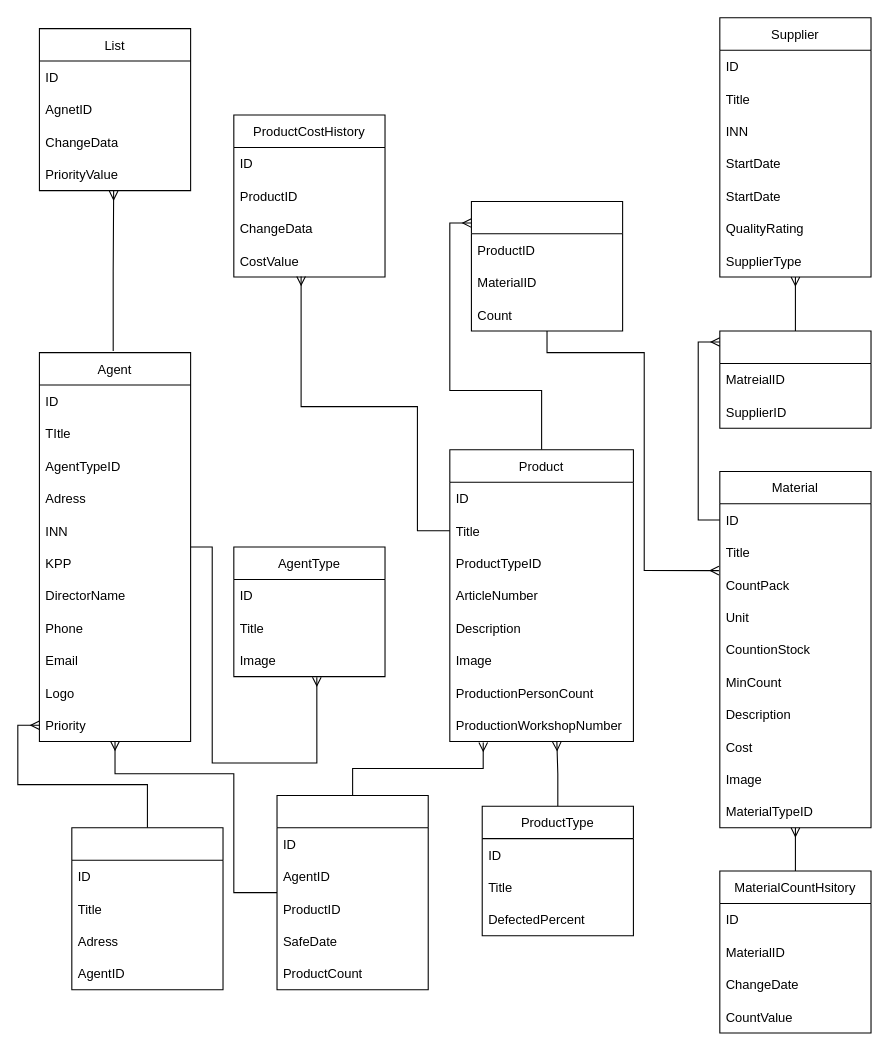
The diagram is 889 pixels wide and 1051 high, and some of its shapes have lost their labels. The shapes that lost their labels are listed below. From the top down, each one's box as (x1, y1, x2, y2) in pixels, then its label:
(470, 200, 623, 331): ProductMaterial
(719, 330, 871, 428): MaterialSupplier
(71, 827, 223, 990): Shop
(276, 794, 428, 990): ProductSale
